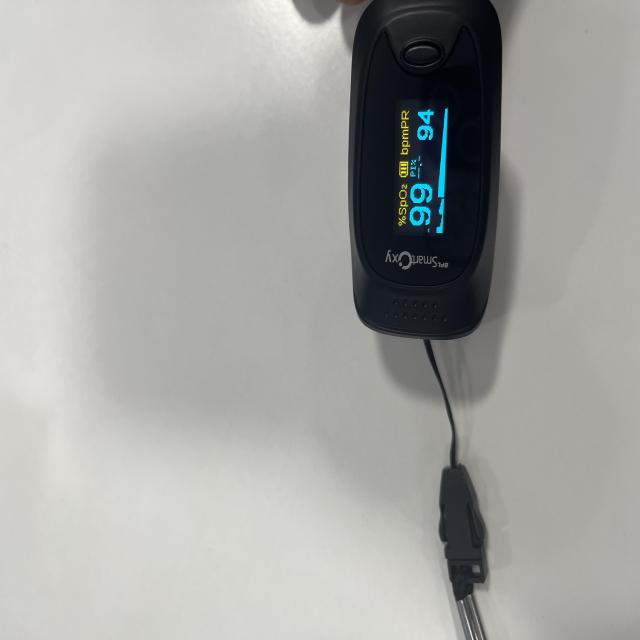spo2: (347, 0, 503, 343)
